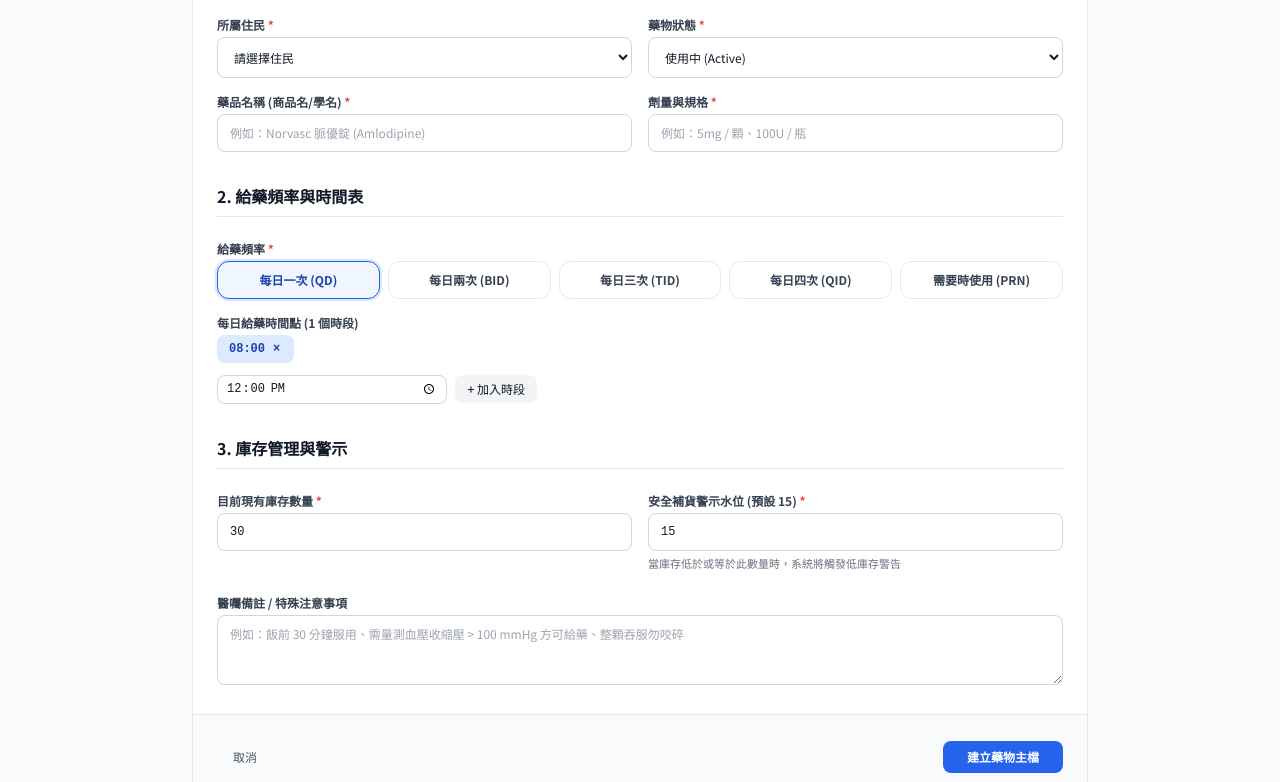
MedicationFormPage › renders create form and validates required fields
(page scrolled)
Click the button "建立藥物主檔": [1003, 757] box left=943, top=741, right=1063, bottom=773
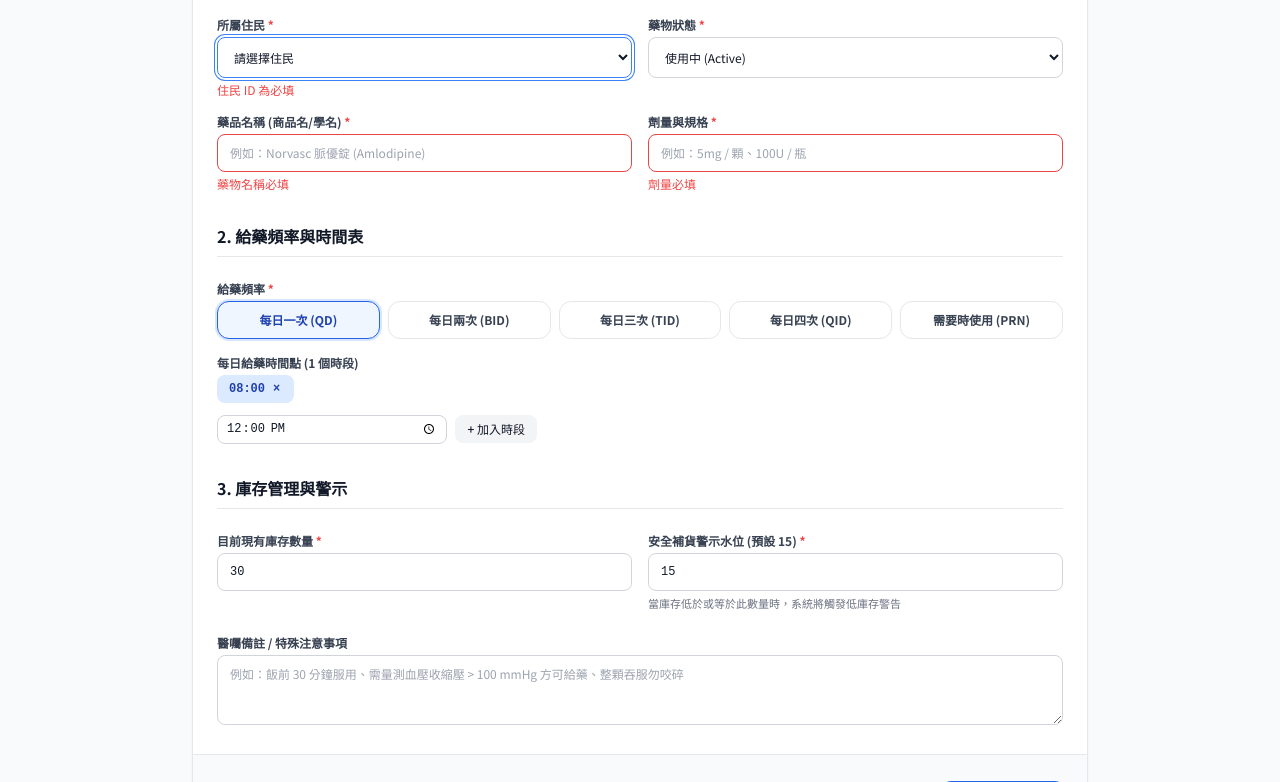
Expected: the text "住民 ID 為必填" is shown, left=217, top=81, right=294, bottom=98
Expected: the text "藥物名稱必填" is shown, left=217, top=175, right=289, bottom=192
Expected: the text "劑量必填" is shown, left=648, top=175, right=696, bottom=192
